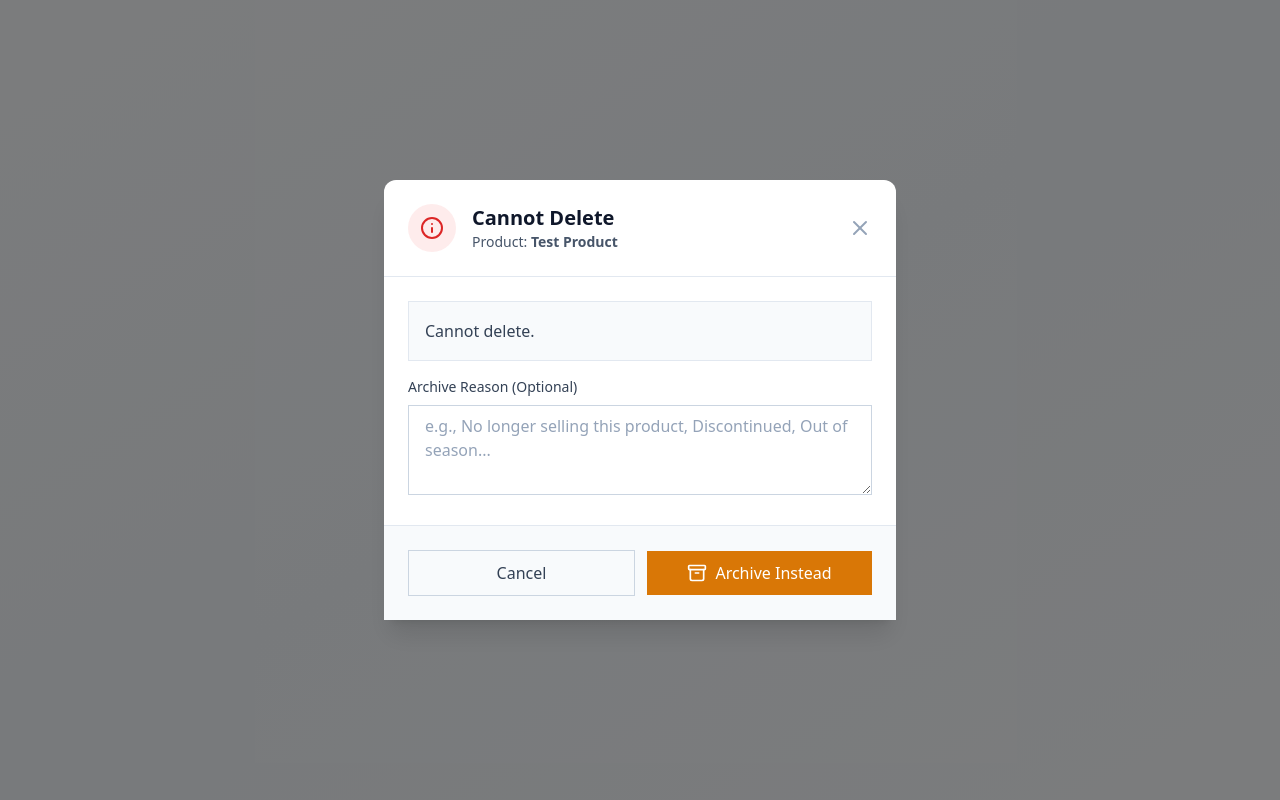
SmartDeleteDialog › Loading States › shows loading spinner during archive operation
Click the button "Archive Instead": (760, 573) left=647, top=551, right=872, bottom=595
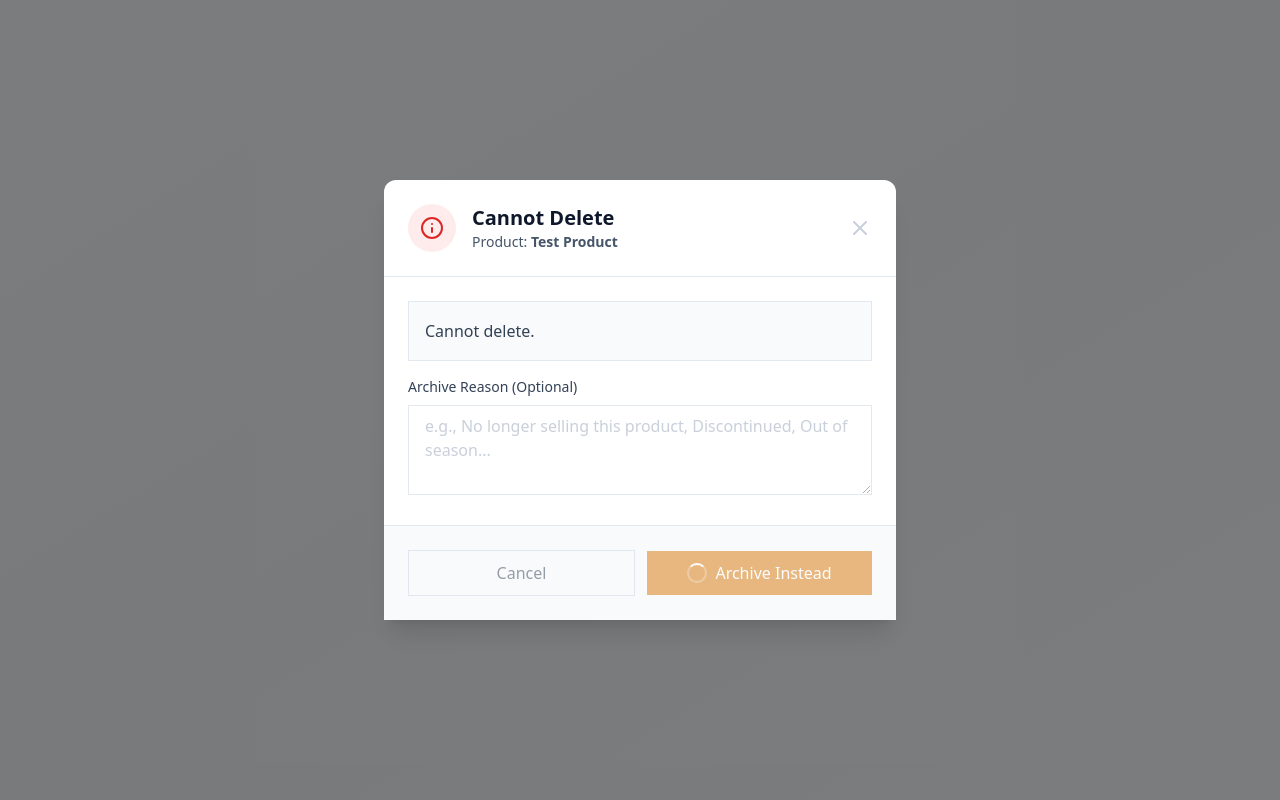
expect the button "Archive Instead" is disabled: met, box left=647, top=551, right=872, bottom=595
